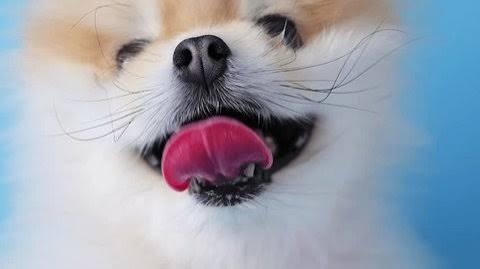puppy-dog: (4, 0, 425, 269)
